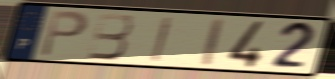2: (266, 21, 320, 72)
4: (225, 19, 265, 70)
B: (85, 12, 134, 61)
I: (200, 17, 226, 68), (149, 15, 176, 63)
P: (38, 9, 91, 59)
